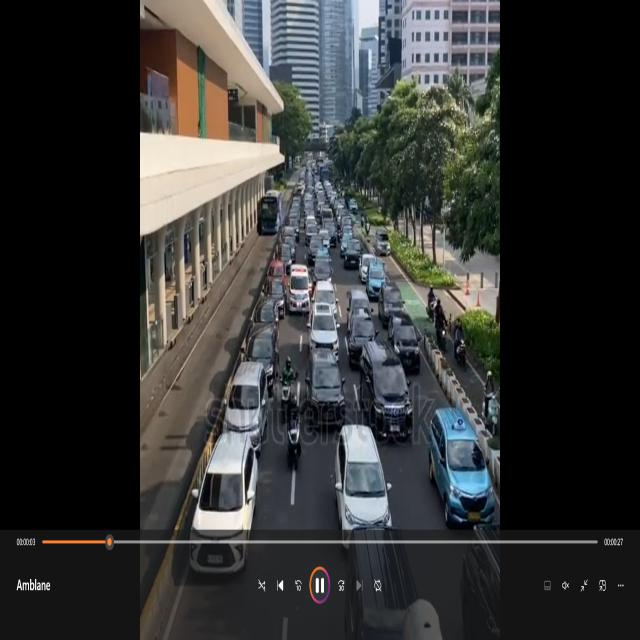Ambulance: (285, 256, 316, 320)
